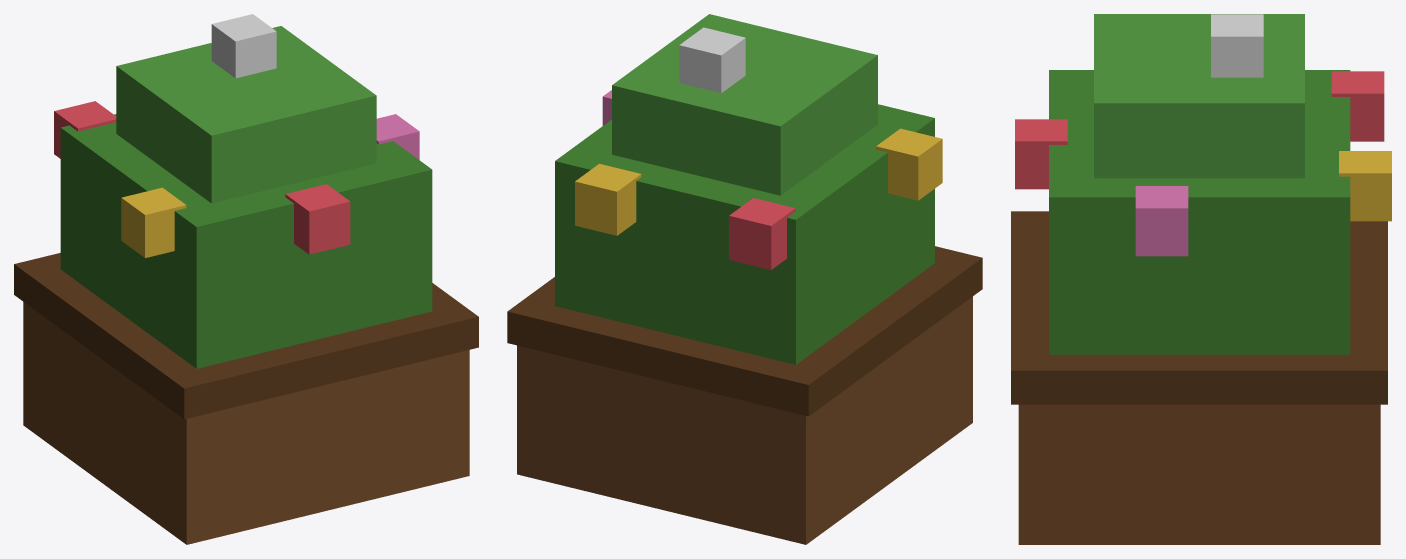
File: th-planter.glb
3 renders of one model, left to right at view 1: azimuth 30°, elevation 25°; view 2: azimuth 150°, elevation 25°; view 3: azimuth 270°, elevation 25°, orthographic. The views are drawn at different scales.
Parts seen in each view (by area): view 1: box-prop; view 2: box-prop; view 3: box-prop.
Boxes of the visible parts, x1,y1,x2,y2 form: box-prop: (14, 14, 478, 544); box-prop: (507, 14, 982, 544); box-prop: (1011, 14, 1391, 544).
Bounding box in the file's own units: 1 × 1.32 × 1.01.
